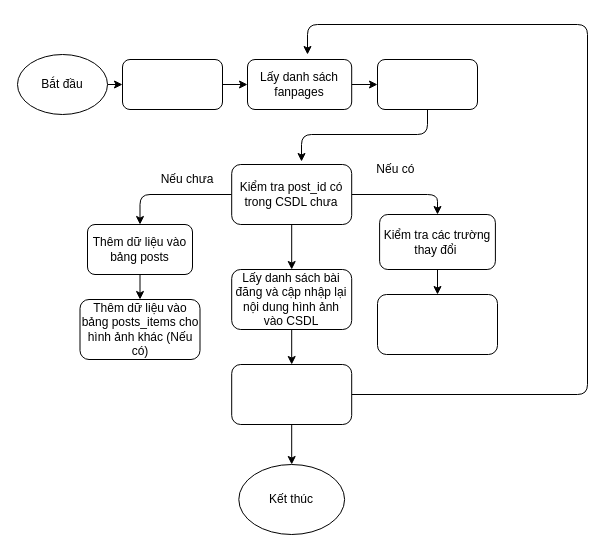
Some shapes in this 613 by 552 pixel diagram are drawn without their labels. Each missing label, with the centre of its shape:
"Kiểm tra và cập nhập nội dung hình ảnh mới" belongs at point 291,394.
"Kết nối với CSDL" belongs at point 172,84.
"Lấy dữ liệu từ facebook" belongs at point 427,84.
"Trích xuất id hình ảnh và cập nhập vào fbid ( Nếu có)" belongs at point 437,324.
